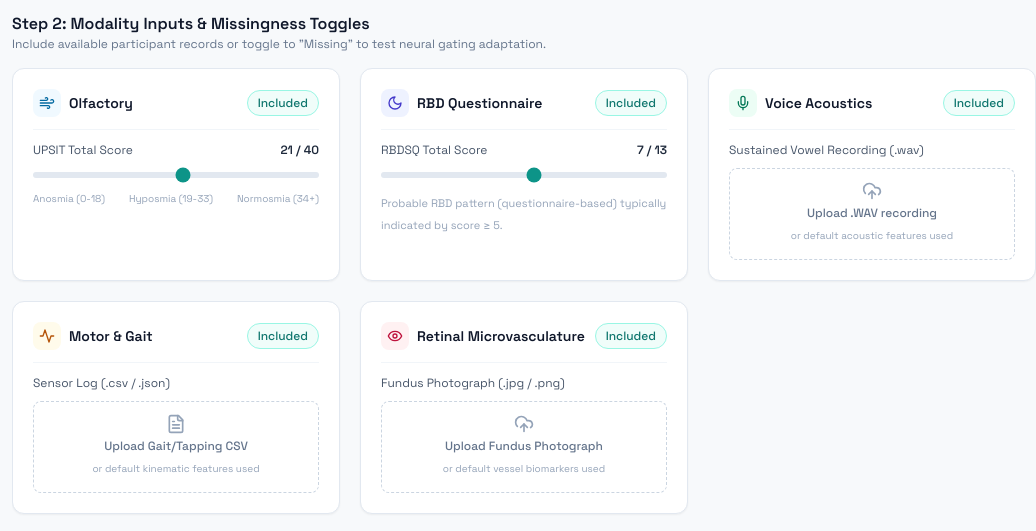
Test: Missing Modality Toggles › toggles modality between included and missing, updating disabled input state
Check: the element with test id "modality-card-olfactory" is shown, box x1=12 y1=68 x2=340 y2=281
Note: Toggle to missing
Click the button "Included" next to "Olfactory". click: x=283, y=103
box: x1=247 y1=90 x2=319 y2=116
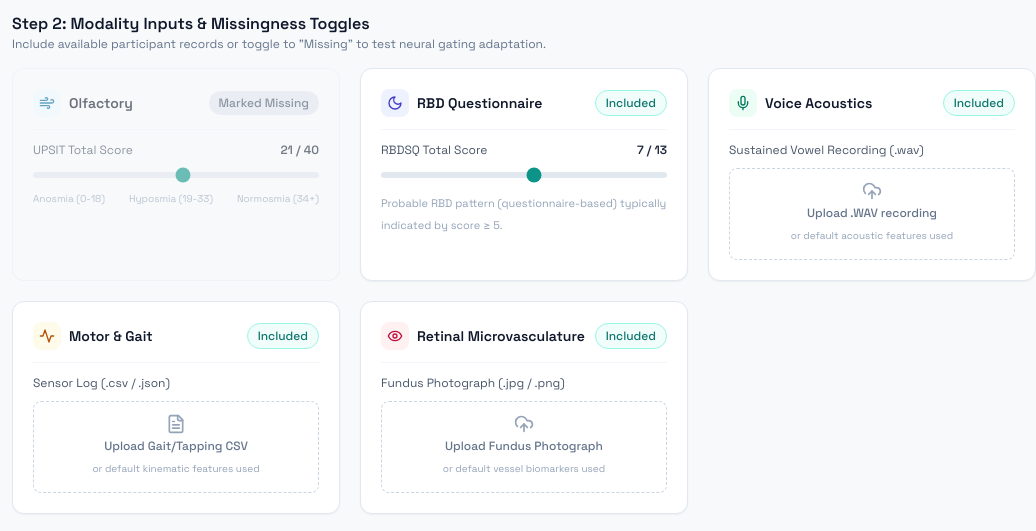
Check: the button "Marked Missing" is shown
Note: Toggle back to included
Click the button "Marked Missing". click: x=264, y=103
box: x1=209 y1=91 x2=319 y2=115
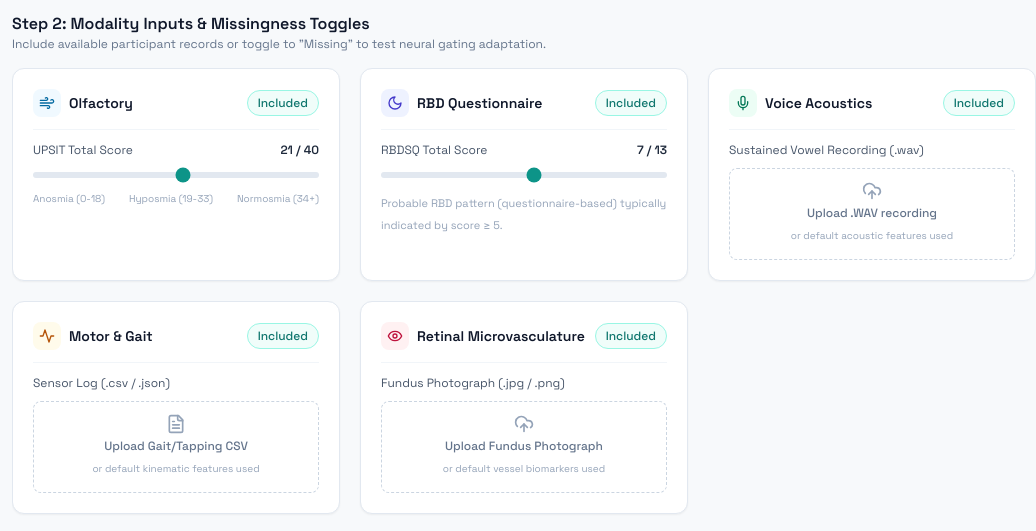
Check: the button "Included" next to "Olfactory" is shown, box x1=247 y1=90 x2=319 y2=116
